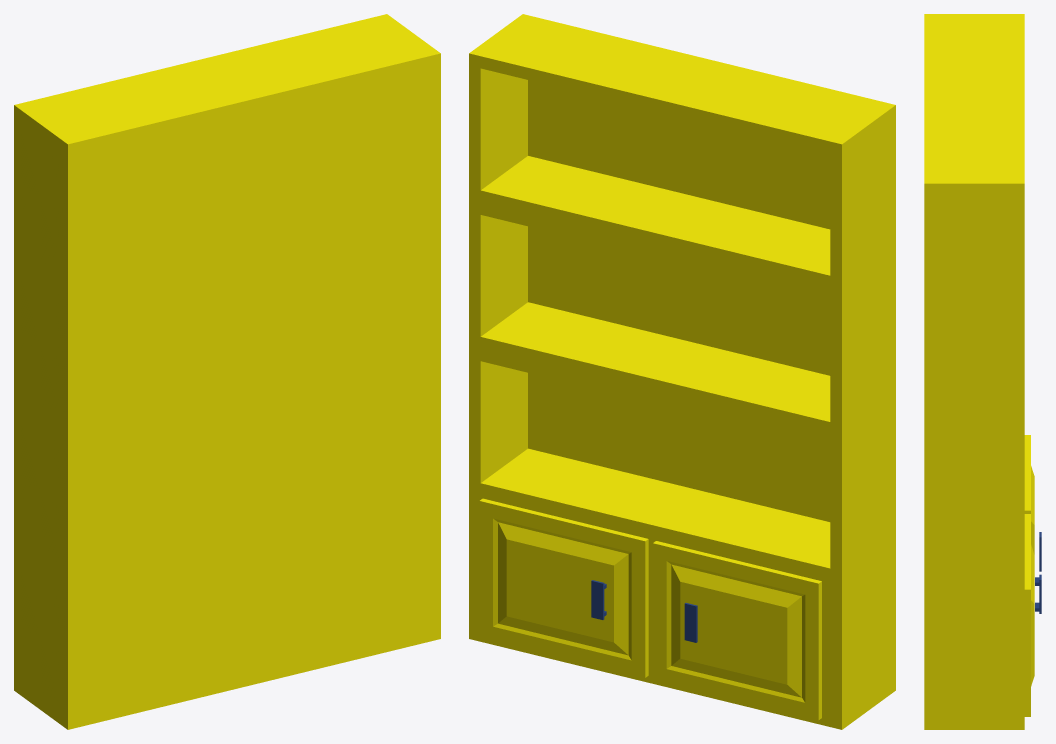
The model's file is bookshelf.glb.
The picture shows the model from 3 angles, left to right: view 1: azimuth 30°, elevation 25°; view 2: azimuth 150°, elevation 25°; view 3: azimuth 270°, elevation 25°; orthographic projection. The views are drawn at different scales.
Parts seen in each view (by area): view 1: 82; view 2: 82, 81; view 3: 82, 81.
Boxes of the visible parts, left/top/right/bottom form: 82: left=14, top=14, right=440, bottom=729; 82: left=469, top=14, right=895, bottom=729; 81: left=591, top=580, right=697, bottom=642; 82: left=924, top=14, right=1034, bottom=729; 81: left=1035, top=532, right=1041, bottom=613.
Bounding box in the file's own units: 4.52 × 6.78 × 1.32.
